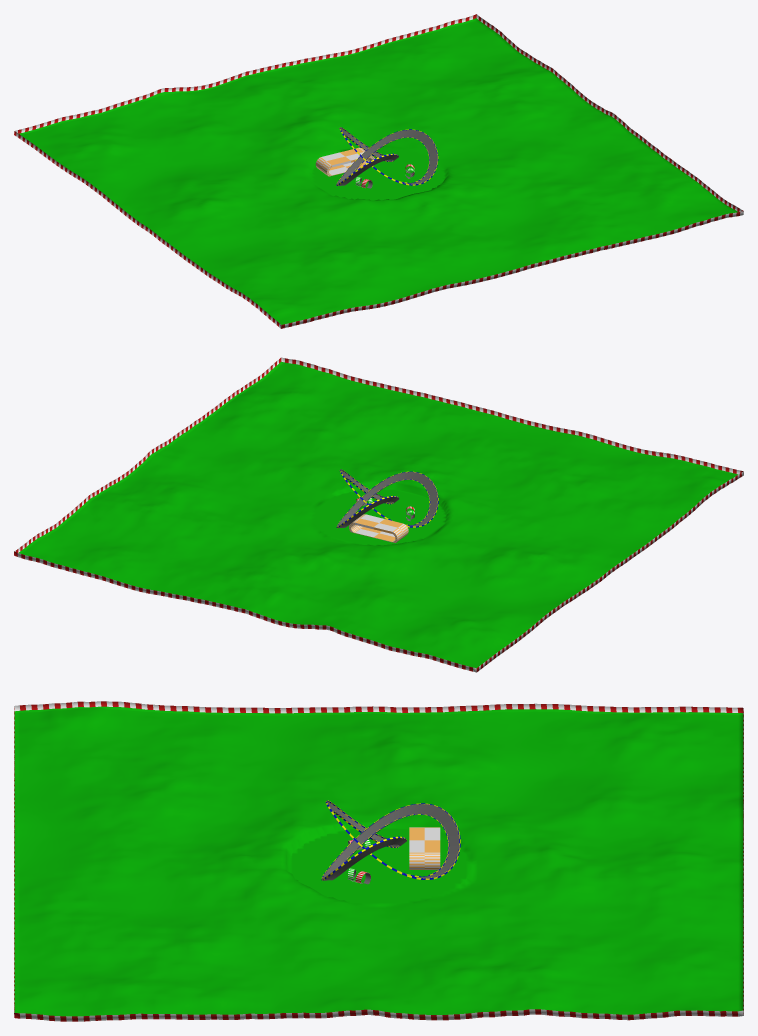
File: LOOPÃO.glb
3 renders of one model, top to bottom at view 1: azimuth 30°, elevation 25°; view 2: azimuth 150°, elevation 25°; view 3: azimuth 270°, elevation 25°, orthographic. The views are drawn at different scales.
Visible parts, largest first — view 1: Landscape.001, Pista, LOOPÃO; view 2: Landscape.001, Pista, LOOPÃO; view 3: Landscape.001, Pista, LOOPÃO.
Boxes of the visible parts, bbox=[...] form: Landscape.001: bbox=[14, 14, 743, 328]; Pista: bbox=[336, 127, 438, 185]; LOOPÃO: bbox=[315, 147, 374, 176]; Landscape.001: bbox=[14, 357, 743, 672]; Pista: bbox=[336, 469, 438, 528]; LOOPÃO: bbox=[349, 514, 408, 542]; Landscape.001: bbox=[14, 701, 743, 1021]; Pista: bbox=[321, 800, 460, 880]; LOOPÃO: bbox=[409, 827, 440, 869].
Size of the model in its own units: 5933 by 490 by 5934.
